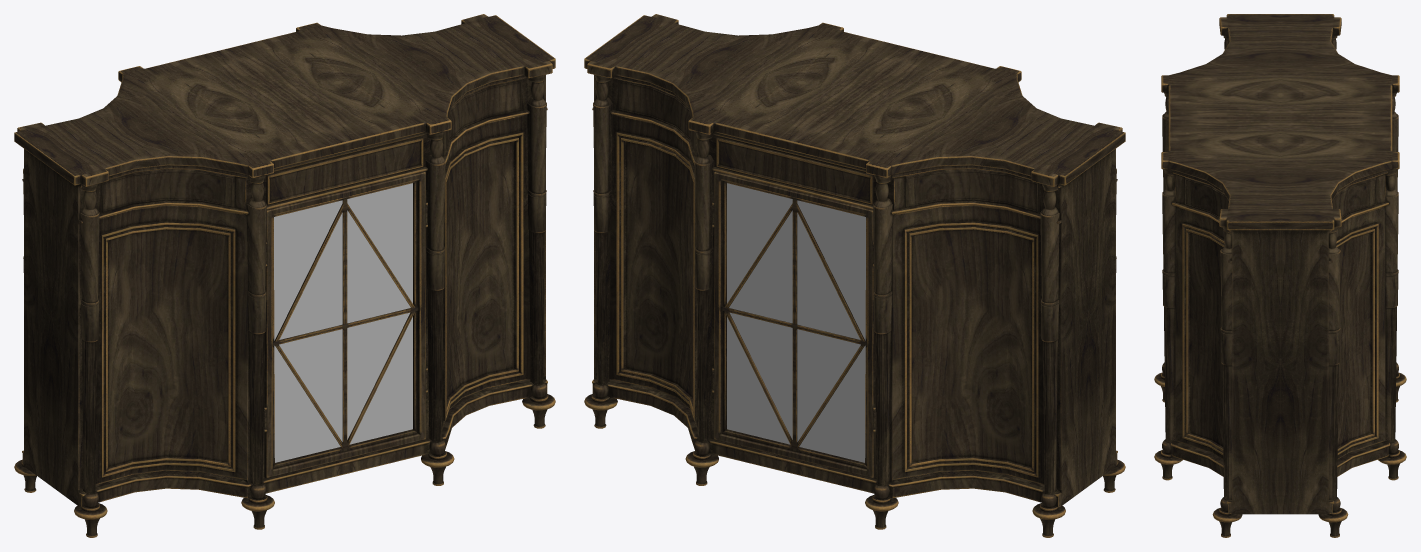
Rendered from SM_Buffah1_SingleDoor.fbx.
3 views of the same model, side by side, from view 1: azimuth 30°, elevation 25°; view 2: azimuth 150°, elevation 25°; view 3: azimuth 270°, elevation 25° (orthographic). The views are drawn at different scales.
Visible parts, largest first — view 1: SM_Buffah1_SingleDoor_LOD0; view 2: SM_Buffah1_SingleDoor_LOD0; view 3: SM_Buffah1_SingleDoor_LOD0.
Part boxes in pixels (x1,y1,x2,y2): SM_Buffah1_SingleDoor_LOD0: (14, 14, 555, 537); SM_Buffah1_SingleDoor_LOD0: (584, 14, 1125, 537); SM_Buffah1_SingleDoor_LOD0: (1154, 14, 1406, 537).
Bounding box in the file's own units: 145 × 74.23 × 104.
Materials: 2 (1 with a texture image).
